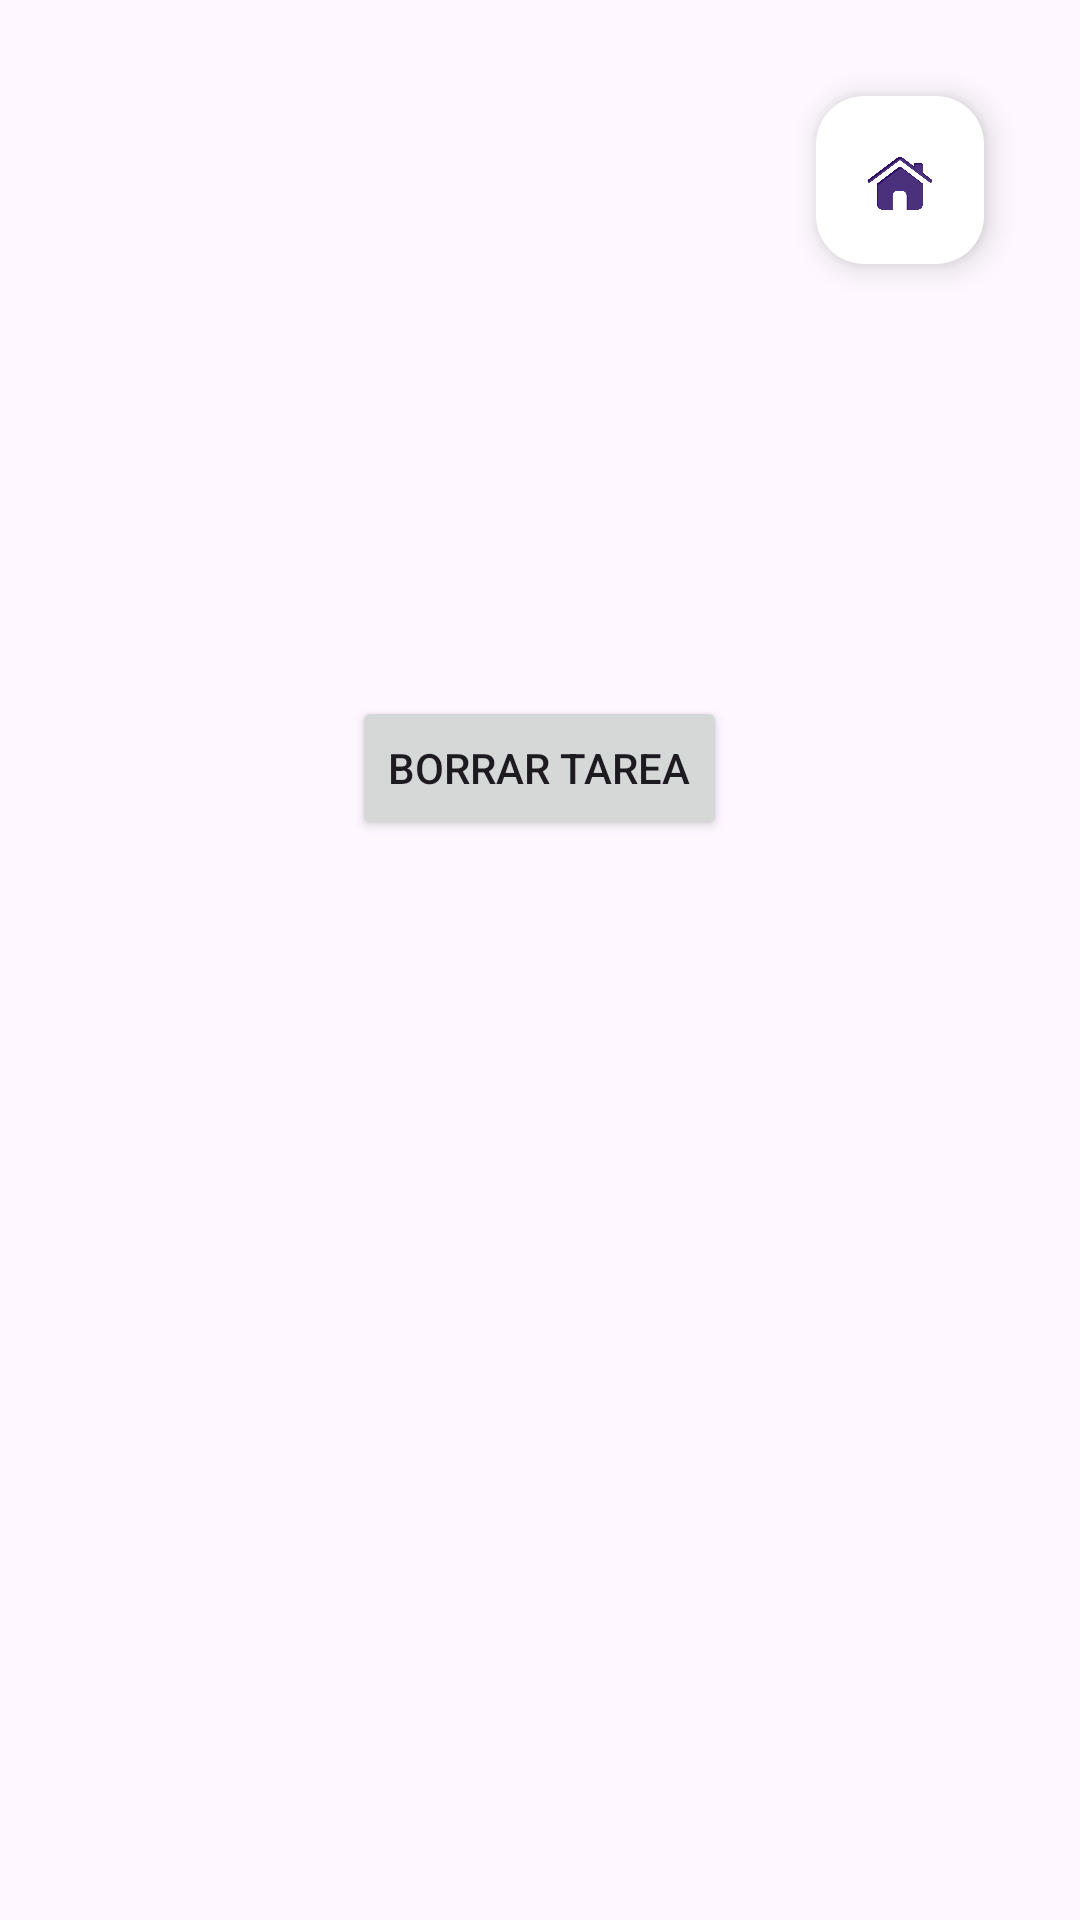

Named icons in this screenshot (1080x1920) and their centers, [x,y]:
homemenu: [900,180]
